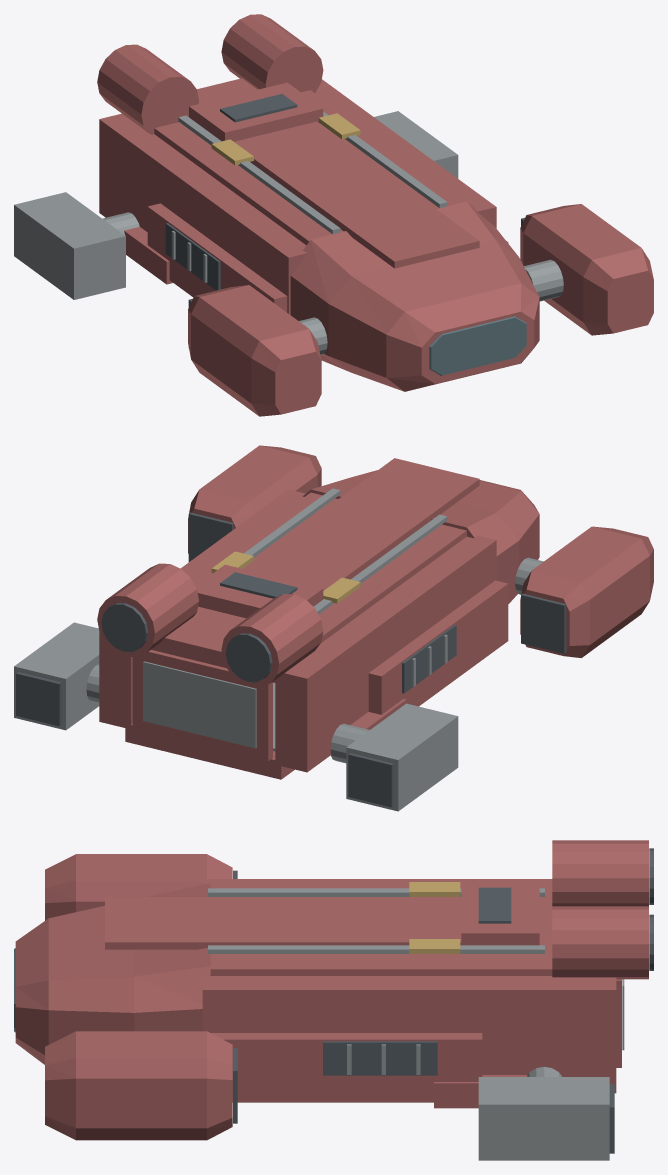
The model's file is shipit_red_off.glb.
The picture shows the model from 3 angles, top to bottom: view 1: azimuth 30°, elevation 25°; view 2: azimuth 150°, elevation 25°; view 3: azimuth 270°, elevation 25°; orthographic projection. The views are drawn at different scales.
Parts seen in each view (by area): view 1: body_0, engine_L_pivot_housing, engine_R_pivot_housing, rear_L_pivot_housing, body_1, body_2, body_4, rear_R_pivot_housing, body_3; view 2: body_0, engine_L_pivot_housing, rear_L_pivot_housing, cargo_ramp_detail, body_4, engine_R_pivot_housing, rear_R_pivot_housing, body_1, cargo_ramp_panel, engine_L_pivot_nozzle, rear_L_pivot_nozzle, rear_R_pivot_nozzle (+2 smaller); view 3: body_0, engine_R_pivot_housing, rear_R_pivot_housing, engine_L_pivot_housing, body_4, body_1, body_3, cargo_ramp_panel.
Part boxes in pixels (box(x1,y1,x2,y2)): body_0: box(97, 14, 539, 391); engine_L_pivot_housing: box(188, 285, 321, 416); engine_R_pivot_housing: box(520, 204, 653, 335); rear_L_pivot_housing: box(14, 192, 125, 299); body_1: box(102, 111, 563, 354); body_2: box(429, 316, 526, 375); body_4: box(165, 94, 297, 290); rear_R_pivot_housing: box(374, 111, 458, 178); body_3: box(211, 113, 360, 165); body_0: box(97, 458, 539, 779); engine_L_pivot_housing: box(520, 526, 653, 658); rear_L_pivot_housing: box(346, 703, 458, 811); cargo_ramp_detail: box(143, 661, 256, 748); body_4: box(101, 572, 456, 693); engine_R_pivot_housing: box(188, 445, 321, 553); rear_R_pivot_housing: box(14, 622, 99, 730); body_1: box(86, 488, 543, 763); cargo_ramp_panel: box(132, 650, 272, 760); engine_L_pivot_nozzle: box(521, 593, 566, 653); rear_L_pivot_nozzle: box(348, 753, 393, 807); rear_R_pivot_nozzle: box(16, 672, 61, 726); body_0: box(15, 840, 648, 1108); engine_R_pivot_housing: box(45, 1031, 232, 1140); rear_R_pivot_housing: box(478, 1077, 609, 1160); engine_L_pivot_housing: box(45, 854, 232, 920); body_4: box(323, 848, 653, 1075); body_1: box(208, 888, 561, 1076); body_3: box(409, 882, 460, 953); cargo_ramp_panel: box(616, 979, 621, 1067).
Bounding box in the file's own units: 2.76 × 1.1 × 3.51.
